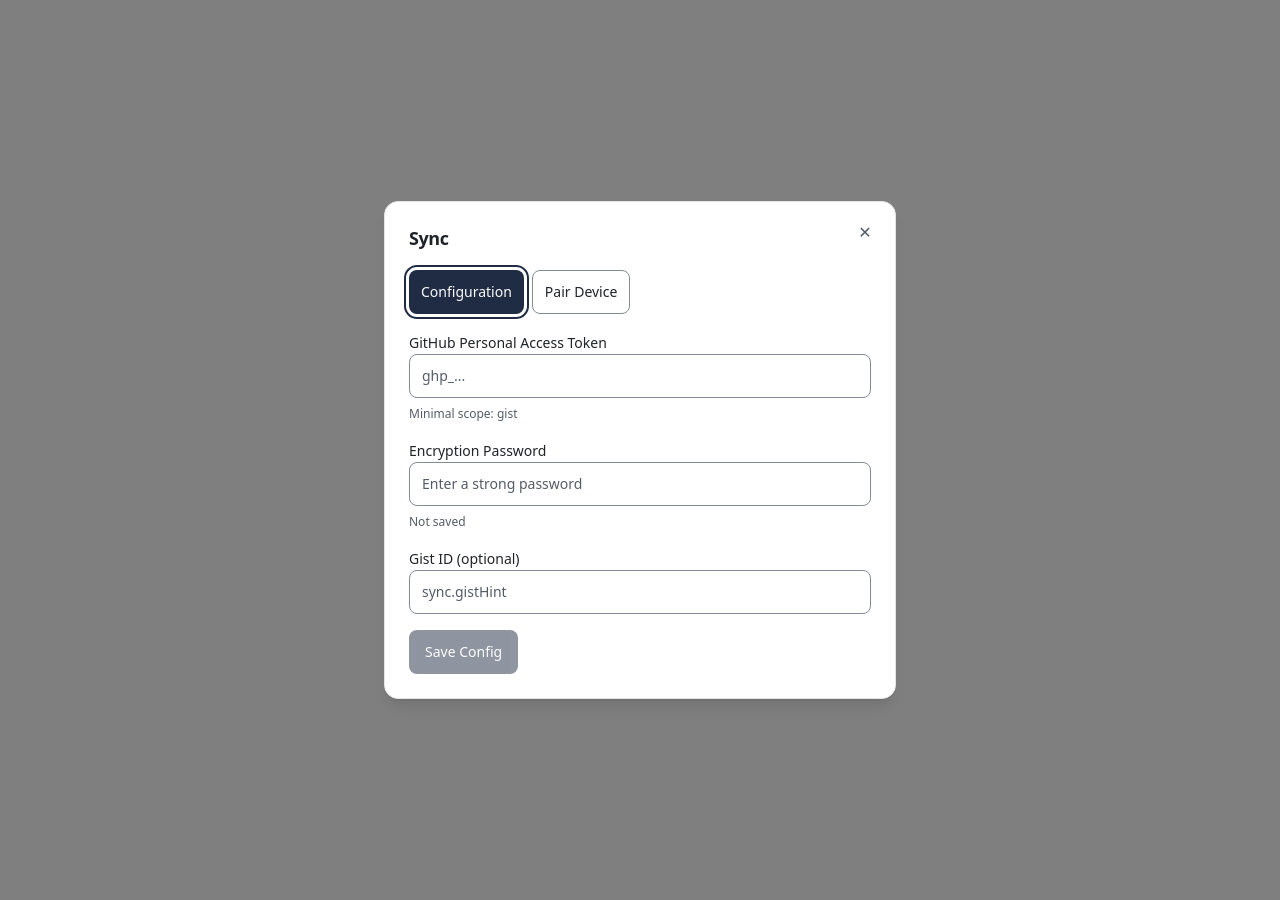
SyncPanel › switches to pair tab
Check: the button "Configuration" is shown, box [409,270,524,314]
Click the button "Pair Device": coordinates (581, 292) [532,270,630,314]
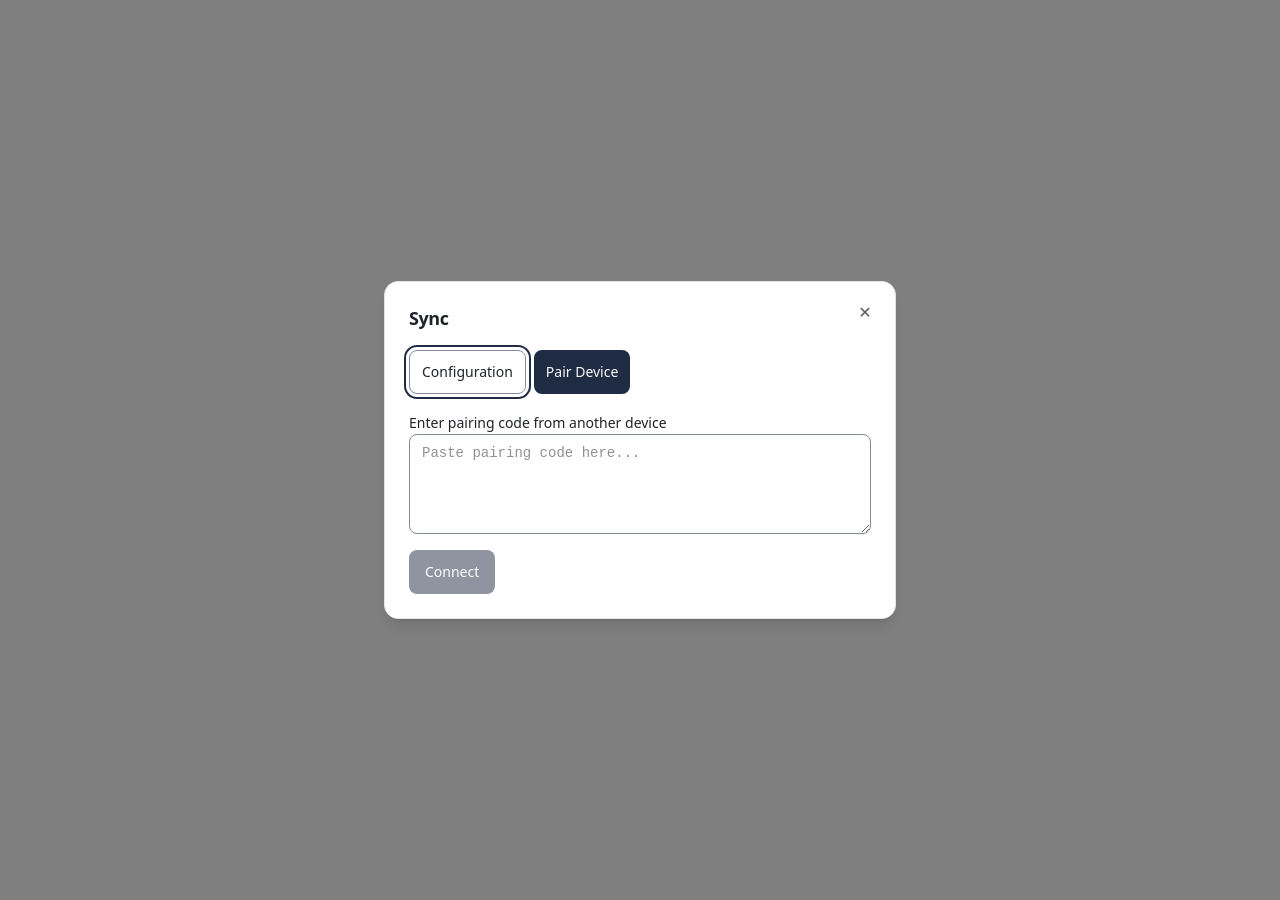
Check: the text "Enter pairing code from another device" is shown, box [409,413,667,432]
